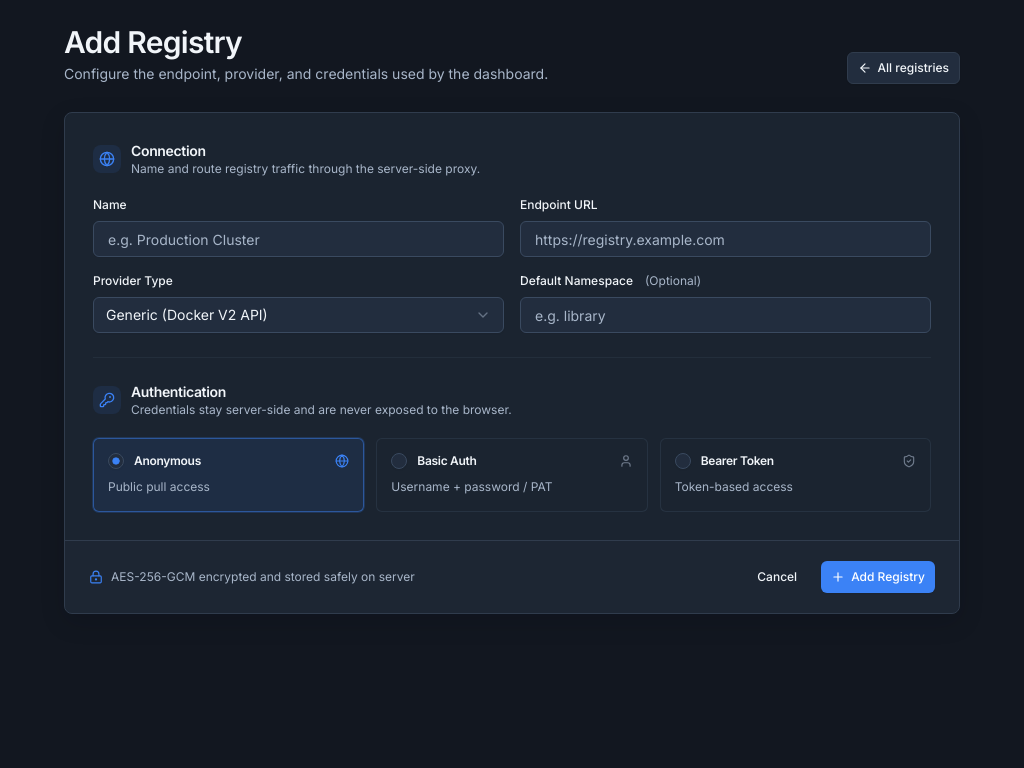
RegistryForm › validates required bearer token field on submit
The image size is (1024, 768).
Click the radio button named "Bearer Token". click: (683, 461)
box: [675,453,691,469]
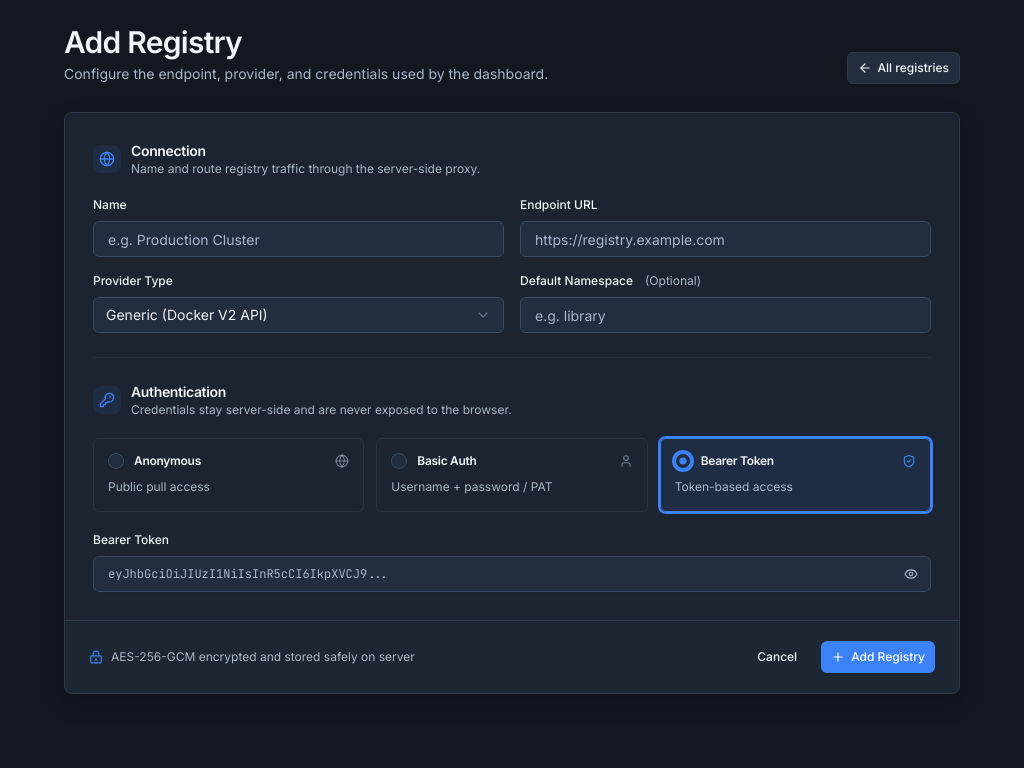
Click the button "Add Registry". click: (878, 656)
box: [821,640,935,672]
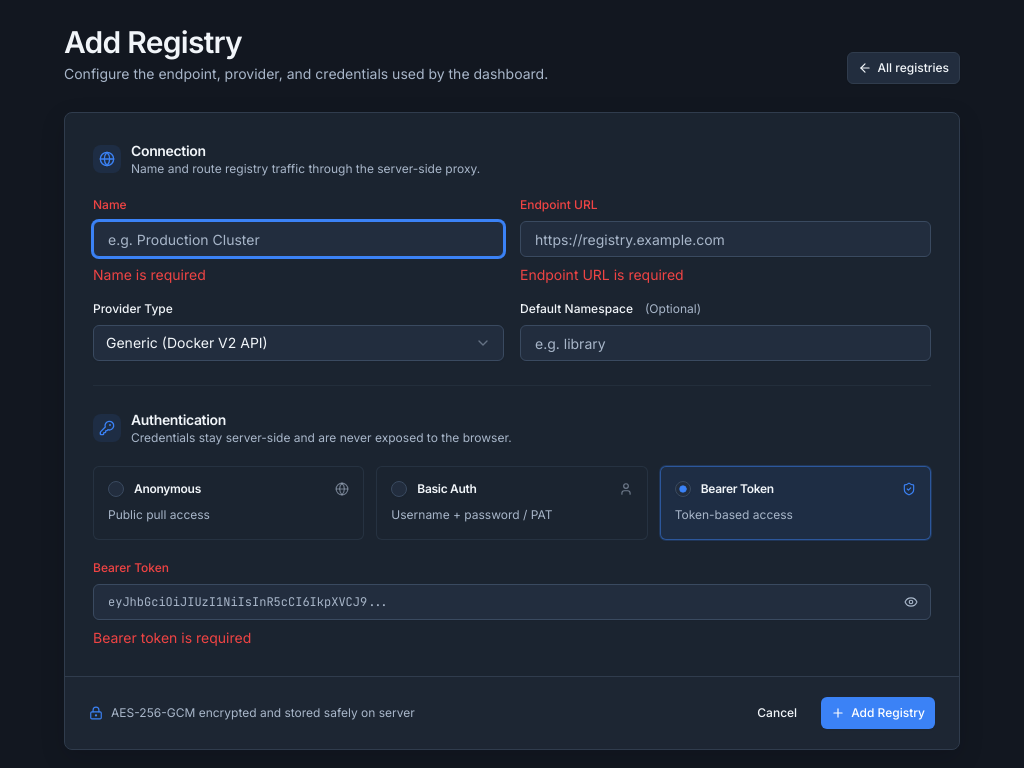
Expected: the text "Bearer token is required" is shown, [93,628,251,646]
